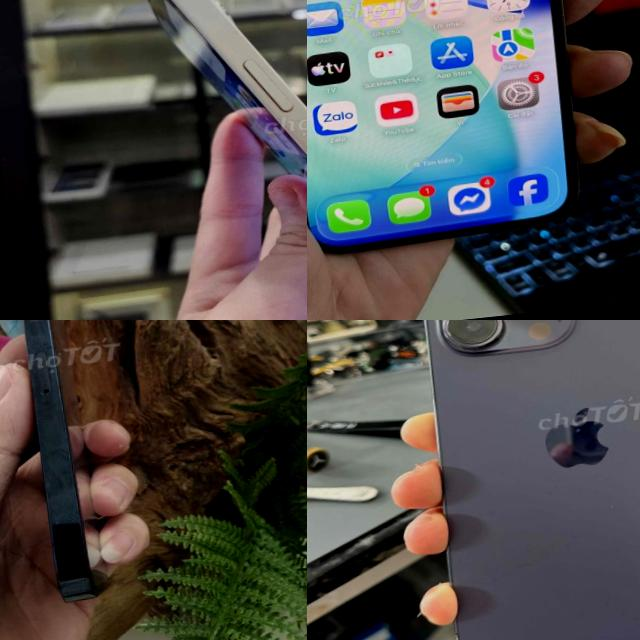gen_12_13: (307, 0, 590, 263), (118, 0, 307, 320), (0, 320, 115, 606)
gen_14: (398, 320, 640, 640)
scratch: (472, 320, 530, 329)
